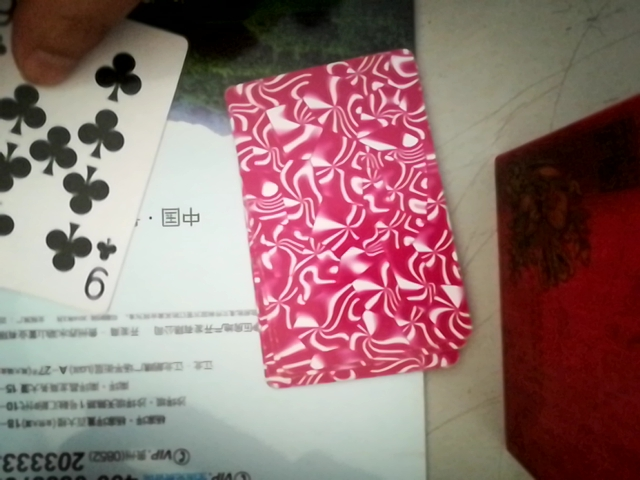mh 9: (1, 14, 195, 305)
